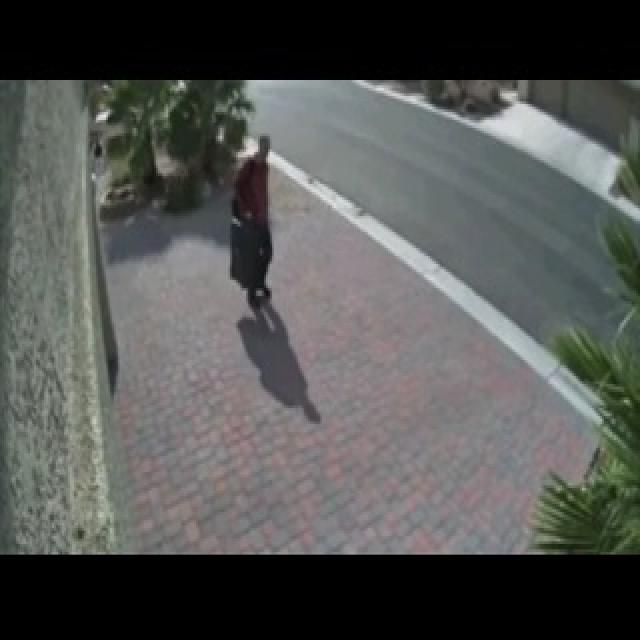thief: (232, 114, 275, 270)
